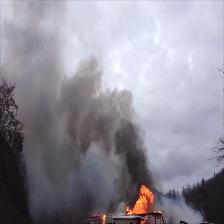fire: (134, 188, 153, 212)
smoke: (81, 90, 130, 136), (117, 140, 148, 178)
